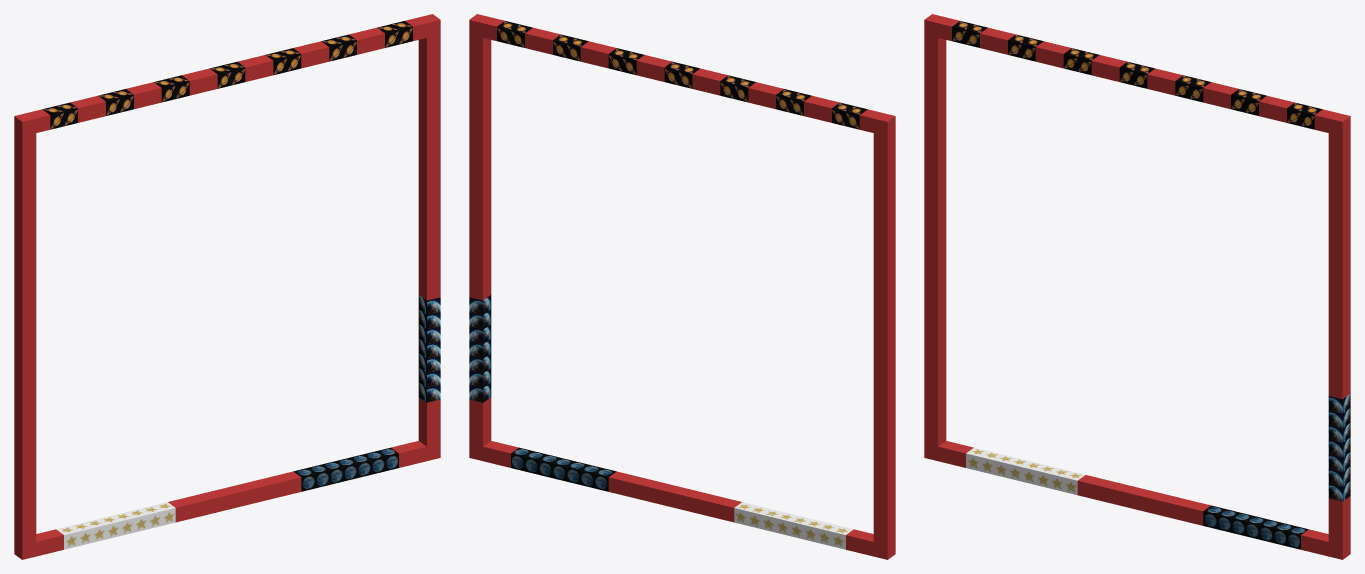
3 views of the same model, side by side, from view 1: azimuth 30°, elevation 25°; view 2: azimuth 150°, elevation 25°; view 3: azimuth 330°, elevation 25° (orthographic).
Visible parts, largest first — view 1: visual_wall_1, visual_wall_5, visual_wall_2, visual_wall_4, visual_wall_3; view 2: visual_wall_1, visual_wall_5, visual_wall_2, visual_wall_4, visual_wall_3; view 3: visual_wall_1, visual_wall_5, visual_wall_2, visual_wall_4, visual_wall_3.
Part boxes in pixels (bbox=[...]): visual_wall_1: bbox=[14, 14, 440, 559]; visual_wall_5: bbox=[42, 21, 412, 129]; visual_wall_2: bbox=[56, 502, 175, 549]; visual_wall_4: bbox=[418, 295, 440, 402]; visual_wall_3: bbox=[293, 447, 398, 491]; visual_wall_1: bbox=[469, 14, 895, 559]; visual_wall_5: bbox=[497, 21, 867, 129]; visual_wall_2: bbox=[734, 502, 853, 549]; visual_wall_4: bbox=[469, 295, 491, 402]; visual_wall_3: bbox=[511, 447, 616, 491]; visual_wall_1: bbox=[924, 14, 1350, 559]; visual_wall_5: bbox=[952, 21, 1322, 129]; visual_wall_2: bbox=[966, 447, 1085, 495]; visual_wall_4: bbox=[1328, 394, 1350, 501]; visual_wall_3: bbox=[1203, 505, 1308, 549].
Bounding box in the file's own units: 30 × 30 × 1.
Materials: 5 (4 with a texture image).
